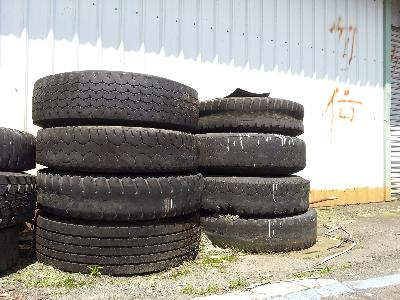tire: (34, 211, 201, 275), (30, 69, 200, 131), (34, 168, 203, 222), (34, 127, 200, 173), (201, 210, 317, 253), (196, 133, 303, 174), (203, 177, 310, 216), (195, 97, 304, 132)
